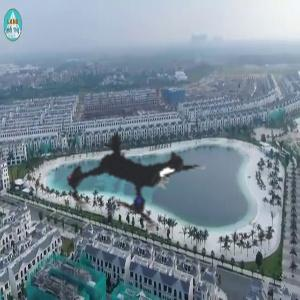drone: (28, 79, 235, 286)
